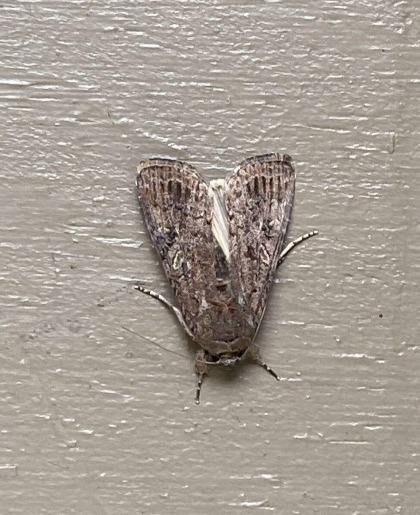army worm adult: (109, 135, 336, 410)
